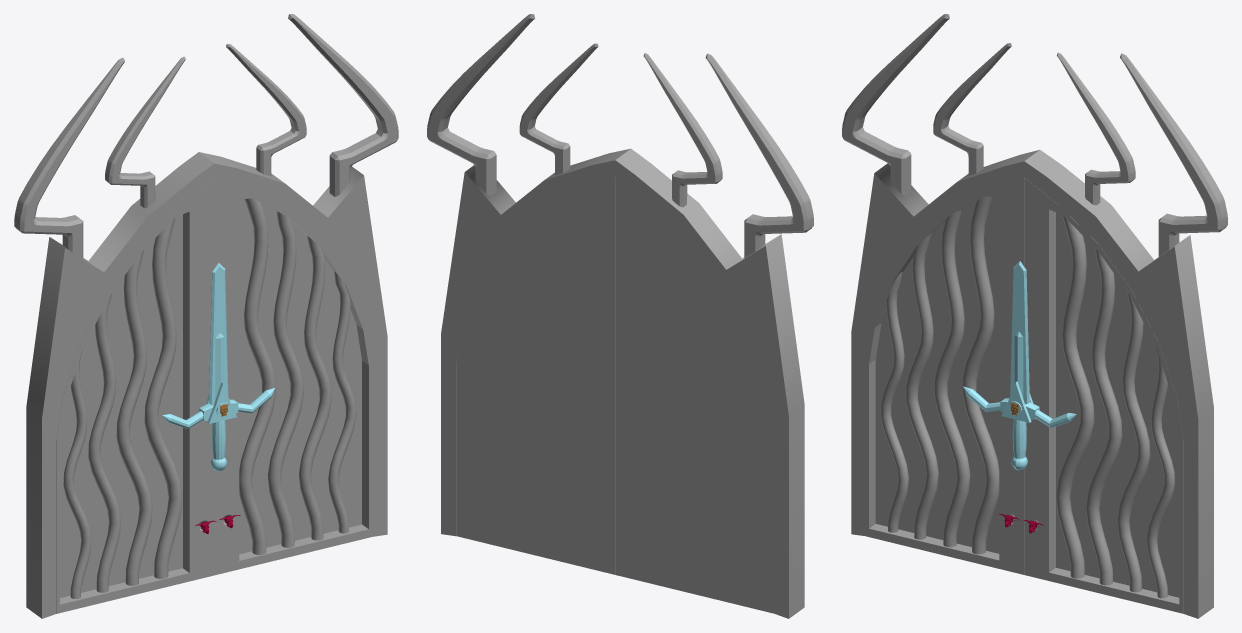
The model's file is puertas 1.fbx.
3 renders of one model, left to right at view 1: azimuth 30°, elevation 25°; view 2: azimuth 150°, elevation 25°; view 3: azimuth 330°, elevation 25°, orthographic.
Visible parts, largest first — view 1: fondo_shader_der, fondo_shader_izq, marco_puerta_izq, puerta_izq, puerta_der, marco_puerta_der, tubo_izq1, tubo_der1, tubo_der2, tubo_izq2, cuerno_izq2, curerno_der2 (+9 smaller); view 2: puerta_izq, puerta_der, marco_puerta_izq, marco_puerta_der, cuerno_izq2, curerno_der2, cuerno_izq1, cuerno_der1; view 3: fondo_shader_izq, fondo_shader_der, marco_puerta_der, puerta_der, puerta_izq, marco_puerta_izq, tubo_der1, tubo_izq1, tubo_izq2, tubo_der2, curerno_der2, cuerno_izq2 (+9 smaller).
Part boxes in pixels (<box>): fondo_shader_der: <box>239,199,361,554</box>; fondo_shader_izq: <box>60,214,182,597</box>; marco_puerta_izq: <box>26,152,214,618</box>; puerta_izq: <box>56,180,214,613</box>; puerta_der: <box>214,179,372,575</box>; marco_puerta_der: <box>199,152,387,536</box>; tubo_izq1: <box>144,218,182,578</box>; tubo_der1: <box>239,198,276,554</box>; tubo_der2: <box>267,211,303,547</box>; tubo_izq2: <box>116,250,152,585</box>; cuerno_izq2: <box>14,57,124,258</box>; curerno_der2: <box>288,14,398,196</box>; puerta_izq: <box>615,177,774,613</box>; puerta_der: <box>457,176,615,574</box>; marco_puerta_izq: <box>615,149,804,618</box>; marco_puerta_der: <box>441,148,630,536</box>; cuerno_izq2: <box>705,53,813,258</box>; curerno_der2: <box>427,14,535,195</box>; cuerno_izq1: <box>643,53,722,207</box>; cuerno_der1: <box>519,43,598,175</box>; fondo_shader_izq: <box>875,197,999,553</box>; fondo_shader_der: <box>1056,212,1179,597</box>; marco_puerta_der: <box>1024,150,1213,618</box>; puerta_der: <box>1024,178,1183,613</box>; puerta_izq: <box>865,177,1024,574</box>; marco_puerta_izq: <box>851,149,1039,535</box>; tubo_der1: <box>1056,215,1094,578</box>; tubo_izq1: <box>962,196,999,554</box>; tubo_izq2: <box>934,208,970,547</box>; tubo_der2: <box>1086,248,1122,585</box>; curerno_der2: <box>1120,53,1227,256</box>; cuerno_izq2: <box>842,14,949,195</box>.
Size of the model in its own units: 24.75 by 33.35 by 2.93.
